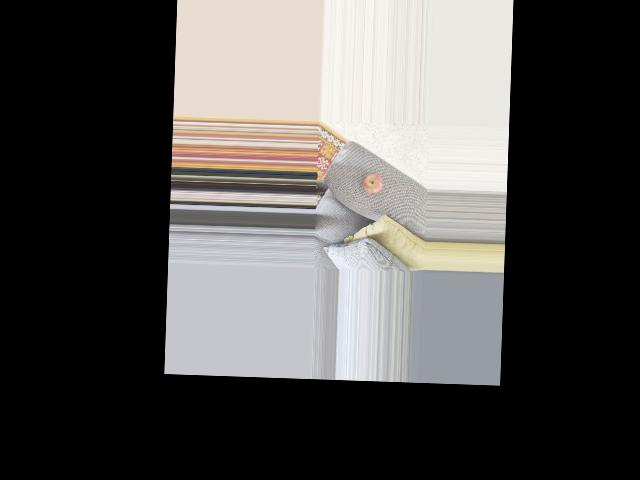apple: (360, 173, 383, 195)
